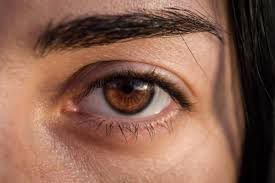pupil: (104, 75, 154, 115)
